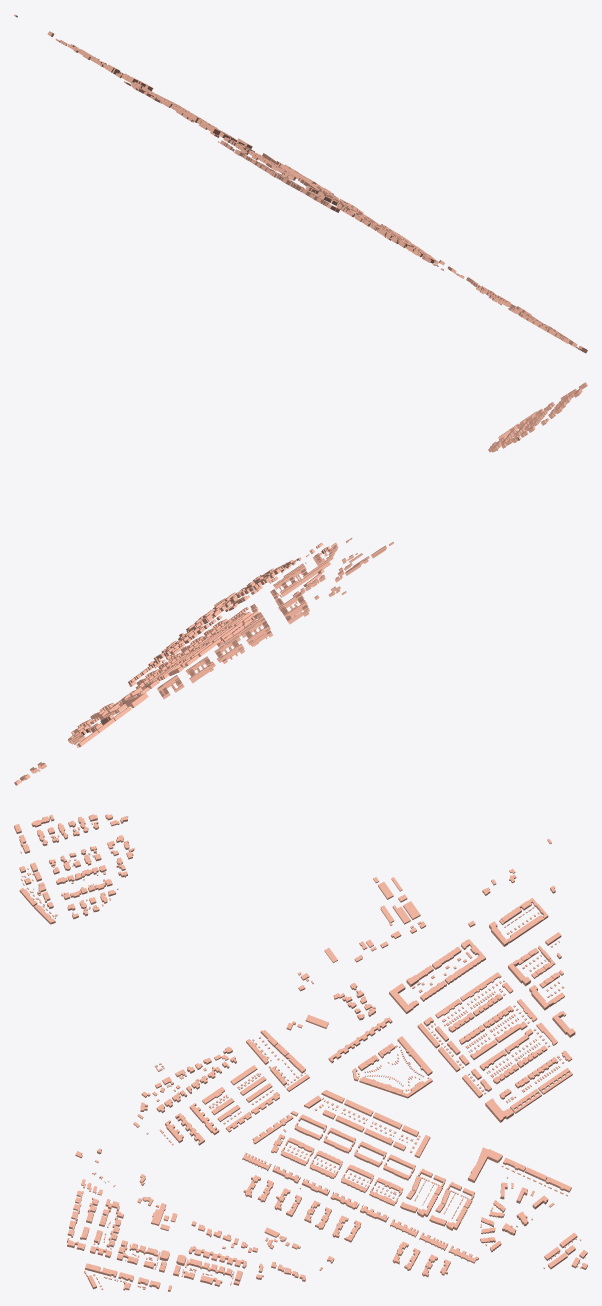
3 views of the same model, one above another, from view 1: azimuth 30°, elevation 25°; view 2: azimuth 150°, elevation 25°; view 3: azimuth 270°, elevation 25° (orthographic). The views are drawn at different scales.
Size of the model in its own units: 950 by 749 by 1288.
